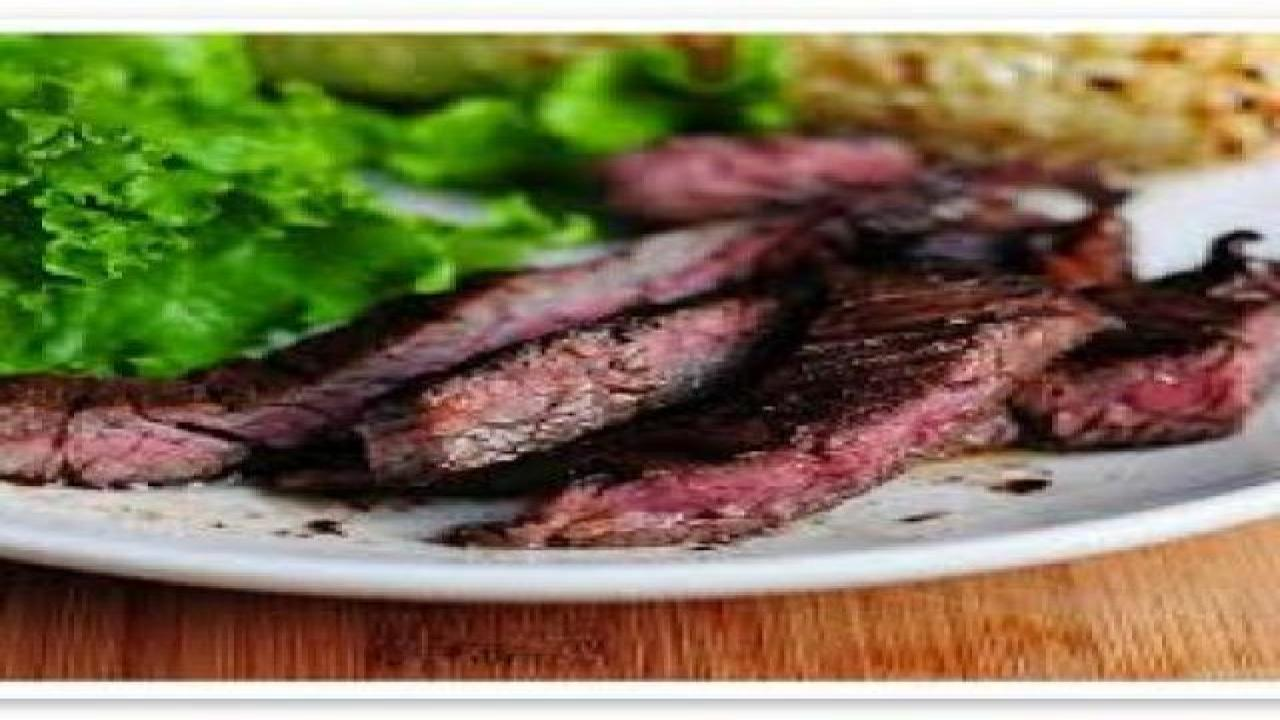Carne: (34, 167, 818, 498), (605, 262, 1117, 556), (380, 276, 799, 505), (1030, 220, 1278, 460)
